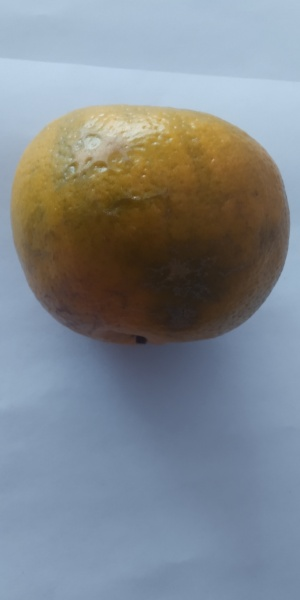BAD: (12, 106, 291, 354)
